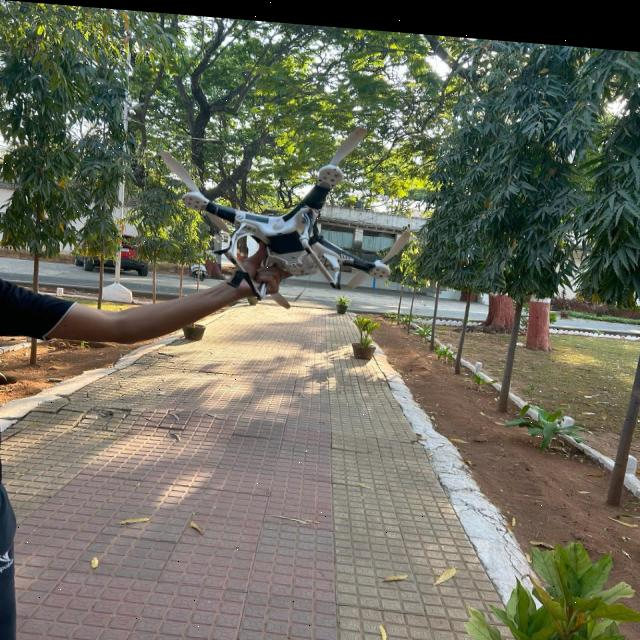drone: (142, 103, 442, 306)
